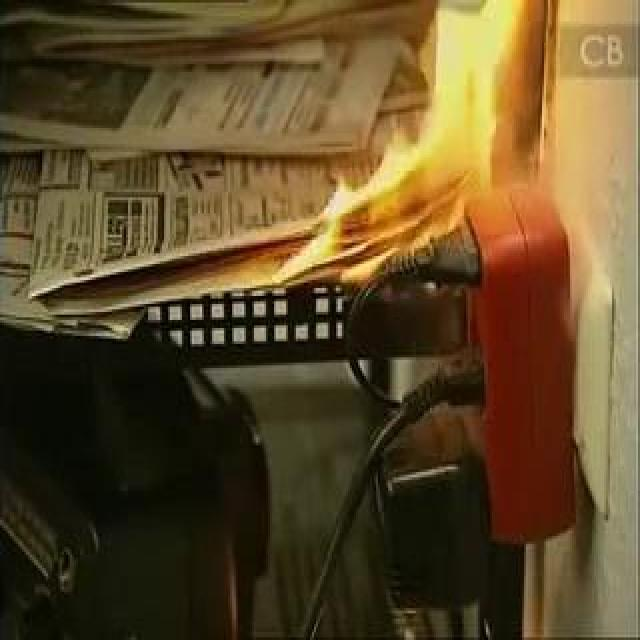Fire: (225, 2, 557, 322)
